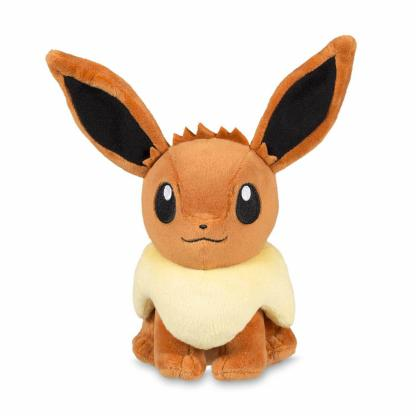Eevee: (56, 39, 416, 416)
